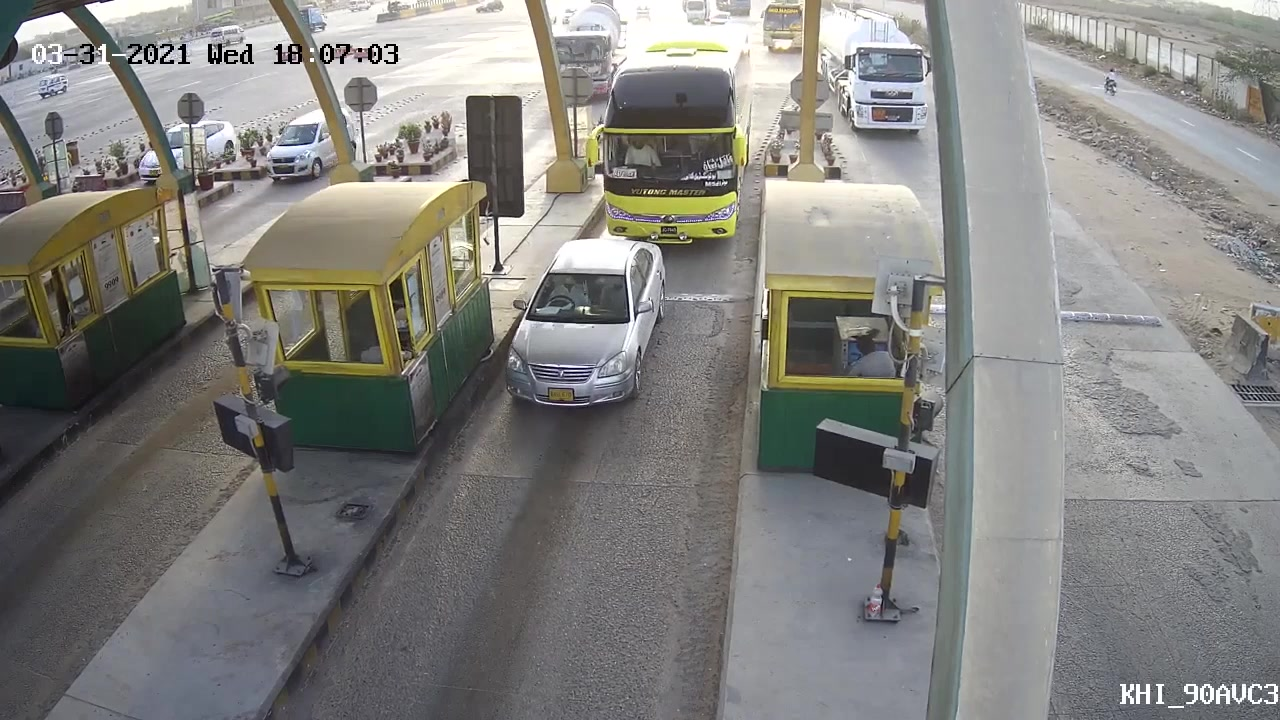F1: (491, 234, 675, 414)
